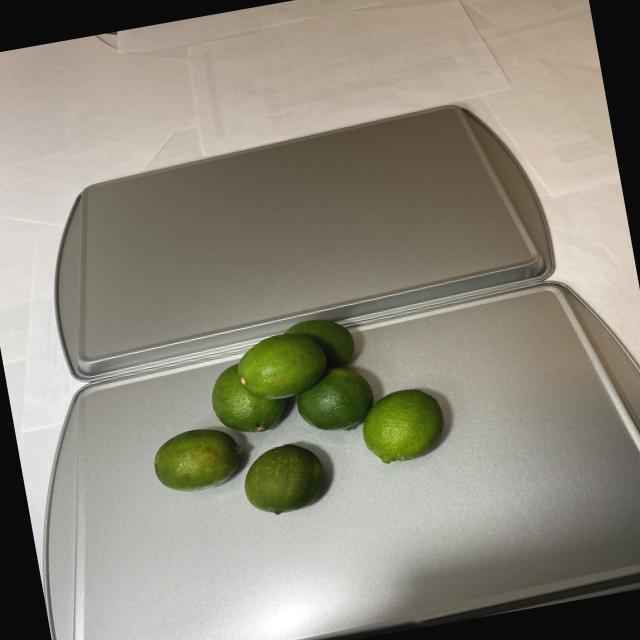lemon: (128, 299, 460, 540)
